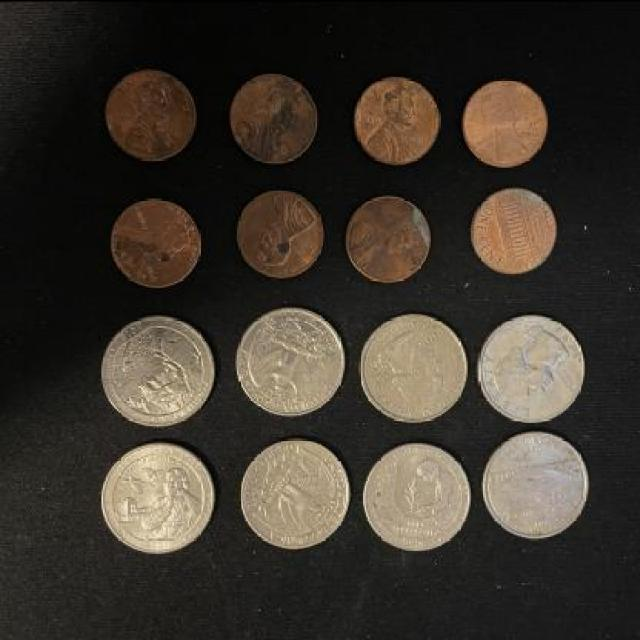Penny: (108, 64, 200, 160), (229, 72, 322, 166), (463, 74, 554, 170), (350, 74, 444, 166), (236, 188, 330, 280), (114, 195, 206, 288), (344, 192, 436, 283), (472, 184, 558, 274)
Quarter: (235, 436, 352, 556), (105, 309, 222, 429), (234, 303, 348, 420), (360, 312, 474, 428), (361, 440, 474, 557), (100, 444, 216, 556), (475, 311, 588, 424), (482, 429, 590, 540)
